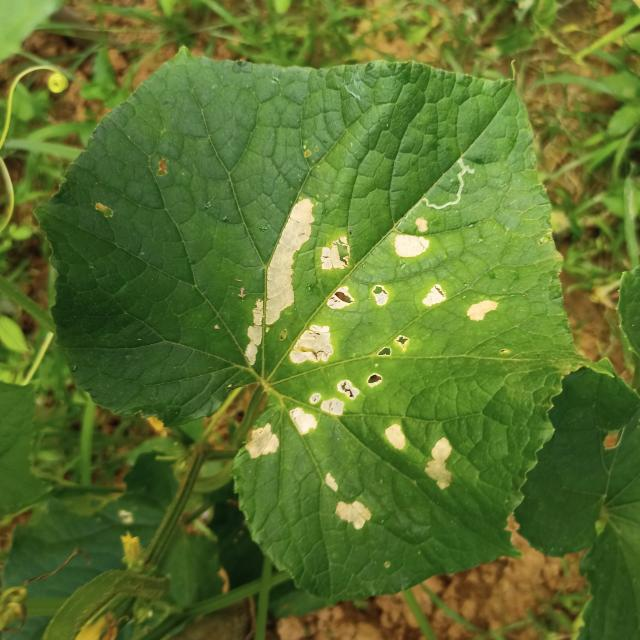disease_cucumber: (239, 198, 497, 486), (382, 416, 458, 490), (319, 468, 377, 536)
